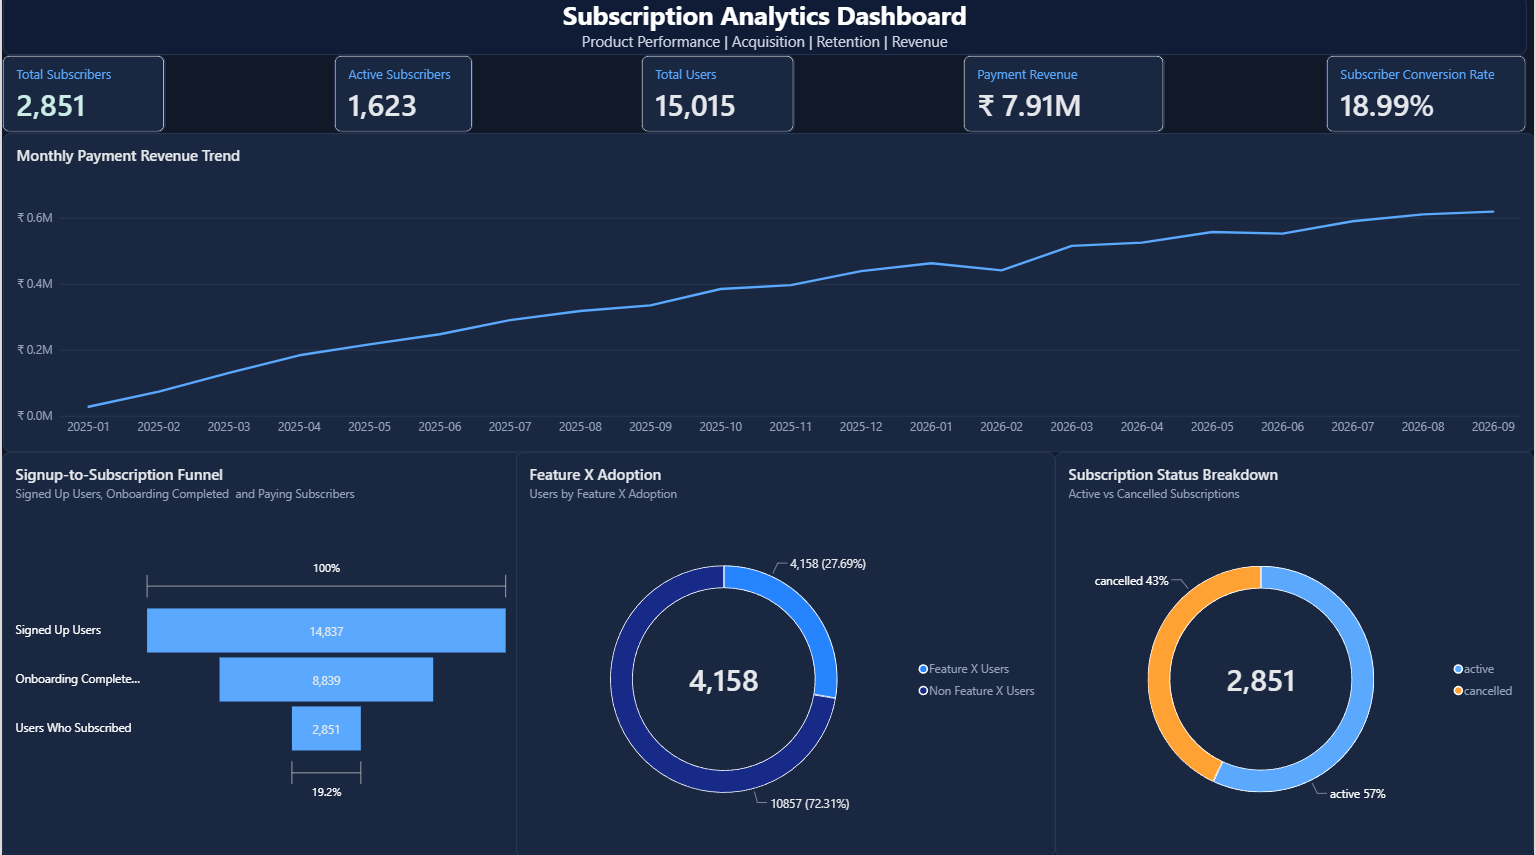

This screenshot's page, from the dashboard's own definition file:
{"tool":"powerbi","page":{"name":"Executive Overview","canvas":[1920,1080],"ordinal":0},"visuals":[{"type":"cardVisual","fields":{"Data":["users_clean.Total Users"]},"box":[800.7,74.5,192.9,97.1],"z":0},{"type":"cardVisual","fields":{"Data":["subscriptions_clean.Total Subscribers"]},"box":[0,74.5,204.8,97.1],"z":1000},{"type":"cardVisual","fields":{"Data":["subscriptions_clean.Active Subscribers"]},"box":[415.6,74.5,174.2,97.1],"z":2000},{"type":"cardVisual","fields":{"Data":["payments_clean.Payment Revenue"]},"box":[1204.4,74.5,252.7,97.1],"z":3000},{"type":"cardVisual","fields":{"Data":["users_clean.Subscriber Conversion Rate"]},"box":[1658.6,74.5,251.4,97.1],"z":4000},{"type":"lineChart","title":"\tMonthly Payment Revenue Trend","fields":{"Category":["DateTable.Year-Month"],"Y":["payments_clean.Payment Revenue"]},"box":[1.3,171.6,1919.3,400.3],"z":5000},{"type":"donutChart","title":"Subscription Status Breakdown","fields":{"Category":["subscriptions_clean.status"],"Y":["CountNonNull(subscriptions_clean.subscription_id)"]},"box":[1319.4,571.9,599.9,508.1],"z":6000},{"type":"funnel","title":"Signup-to-Subscription Funnel","fields":{"Y":["events_clean.Signed Up Users","events_clean.Onboarding Completed Users","subscriptions_clean.Users Who Subscribed"]},"box":[0,571.9,653.1,508.1],"z":7000},{"type":"donutChart","title":"Feature X Adoption","fields":{"Y":["events_clean.Feature X Users","events_clean.Non Feature X Users"]},"box":[643.7,571.9,675.7,508.1],"z":8000},{"type":"textbox","box":[1.3,0,1908.6,74.5],"z":9000}]}

Visuals, with their boxes in screenshot pixels (x1, y1, x2, y2), scaled from the page's 1920x1080 canvas onto the 1536x855 screenshot:
cardVisual - users_clean.Total Users: left=641, top=59, right=795, bottom=136
cardVisual - subscriptions_clean.Total Subscribers: left=0, top=59, right=164, bottom=136
cardVisual - subscriptions_clean.Active Subscribers: left=332, top=59, right=472, bottom=136
cardVisual - payments_clean.Payment Revenue: left=964, top=59, right=1166, bottom=136
cardVisual - users_clean.Subscriber Conversion Rate: left=1327, top=59, right=1528, bottom=136
"	Monthly Payment Revenue Trend" lineChart: left=1, top=136, right=1535, bottom=453
"Subscription Status Breakdown" donutChart: left=1056, top=453, right=1535, bottom=854
"Signup-to-Subscription Funnel" funnel: left=0, top=453, right=522, bottom=854
"Feature X Adoption" donutChart: left=515, top=453, right=1056, bottom=854
textbox: left=1, top=0, right=1528, bottom=59
